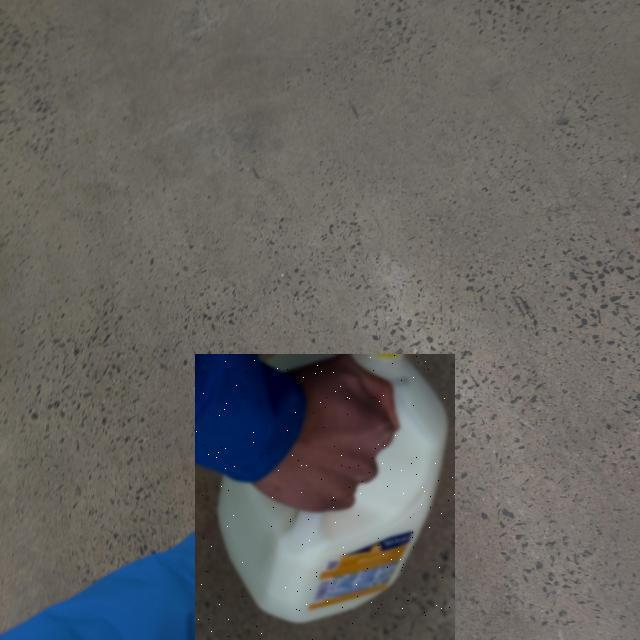milk: (98, 34, 292, 640)
